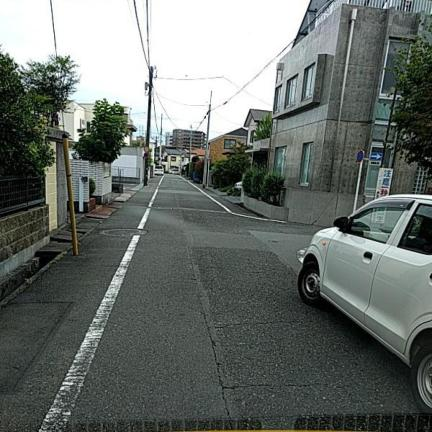Road: (0, 176, 416, 430)
